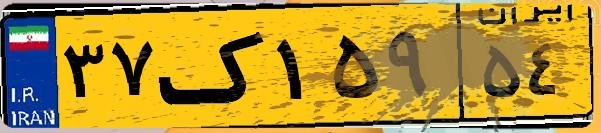1: (270, 28, 330, 110)
3: (57, 26, 110, 100)
4: (525, 38, 570, 115)
5: (330, 28, 385, 110), (475, 38, 525, 113)
7: (110, 28, 158, 98)
9: (385, 28, 445, 110)
ک: (158, 12, 270, 120)
